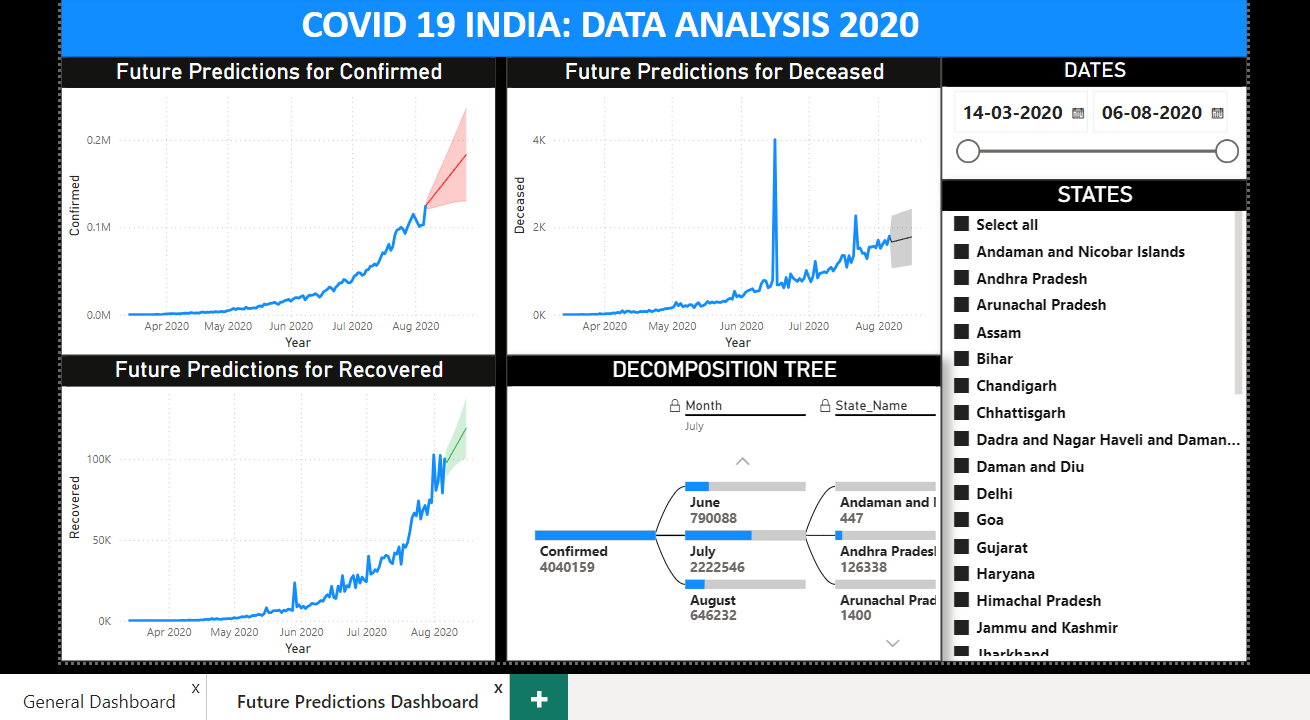

What the dashboard file says about the page in this screenshot:
{"tool":"powerbi","page":{"name":"Future Predictions Dashboard","canvas":[1280,720],"ordinal":1},"visuals":[{"type":"lineChart","title":"Future Predictions for Confirmed","fields":{"Y":["Sum(state_level_daily.Confirmed)"],"Category":["state_level_daily.Date.Variation.Date Hierarchy.Year","state_level_daily.Date.Variation.Date Hierarchy.Quarter","state_level_daily.Date.Variation.Date Hierarchy.Month","state_level_daily.Date.Variation.Date Hierarchy.Day"]},"box":[0,68,469.6,322.2],"z":0},{"type":"lineChart","title":"Future Predictions for Recovered ","fields":{"Y":["Sum(state_level_daily.Recovered)"],"Category":["state_level_daily.Date.Variation.Date Hierarchy.Year","state_level_daily.Date.Variation.Date Hierarchy.Quarter","state_level_daily.Date.Variation.Date Hierarchy.Month","state_level_daily.Date.Variation.Date Hierarchy.Day"]},"box":[0,390.2,469.6,330.3],"z":1000},{"type":"lineChart","title":"Future Predictions for Deceased","fields":{"Y":["Sum(state_level_daily.Deceased)"],"Category":["state_level_daily.Date.Variation.Date Hierarchy.Year","state_level_daily.Date.Variation.Date Hierarchy.Month","state_level_daily.Date.Variation.Date Hierarchy.Day"]},"box":[480.9,68,469.6,322.2],"z":2000},{"type":"slicer","title":"DATES","fields":{"Values":["state_level_daily.Date"]},"box":[950.5,68,330.3,132.8],"z":3000},{"type":"slicer","title":"STATES","fields":{"Values":["state_level_daily.State_Name"]},"box":[950.5,200.8,330.3,519.8],"z":4000},{"type":"shape","box":[0,0,1280.8,68],"z":5000},{"type":"textbox","box":[254.2,0,696.3,63.1],"z":6000},{"type":"decompositionTreeVisual","title":"DECOMPOSITION TREE","fields":{"Analyze":["Sum(state_level_daily.Confirmed)"],"ExplainBy":["state_level_daily.Date.Variation.Date Hierarchy.Month","state_level_daily.State_Name"]},"box":[480.9,390.2,469.6,330.3],"z":7000}]}

Visuals, with their boxes on the page's 1280x720 design canvas (x1, y1, x2, y2). These are canvas units, not pixel positions in the 1310x720 screenshot, which may show the page scaled, cropped or inside an application window:
"Future Predictions for Confirmed" lineChart: (left=0, top=68, right=470, bottom=390)
"Future Predictions for Recovered " lineChart: (left=0, top=390, right=470, bottom=720)
"Future Predictions for Deceased" lineChart: (left=481, top=68, right=950, bottom=390)
"DATES" slicer: (left=950, top=68, right=1281, bottom=201)
"STATES" slicer: (left=950, top=201, right=1281, bottom=721)
shape: (left=0, top=0, right=1281, bottom=68)
textbox: (left=254, top=0, right=950, bottom=63)
"DECOMPOSITION TREE" decompositionTreeVisual: (left=481, top=390, right=950, bottom=720)
